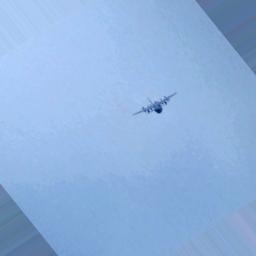Airplane: (129, 90, 179, 118)
